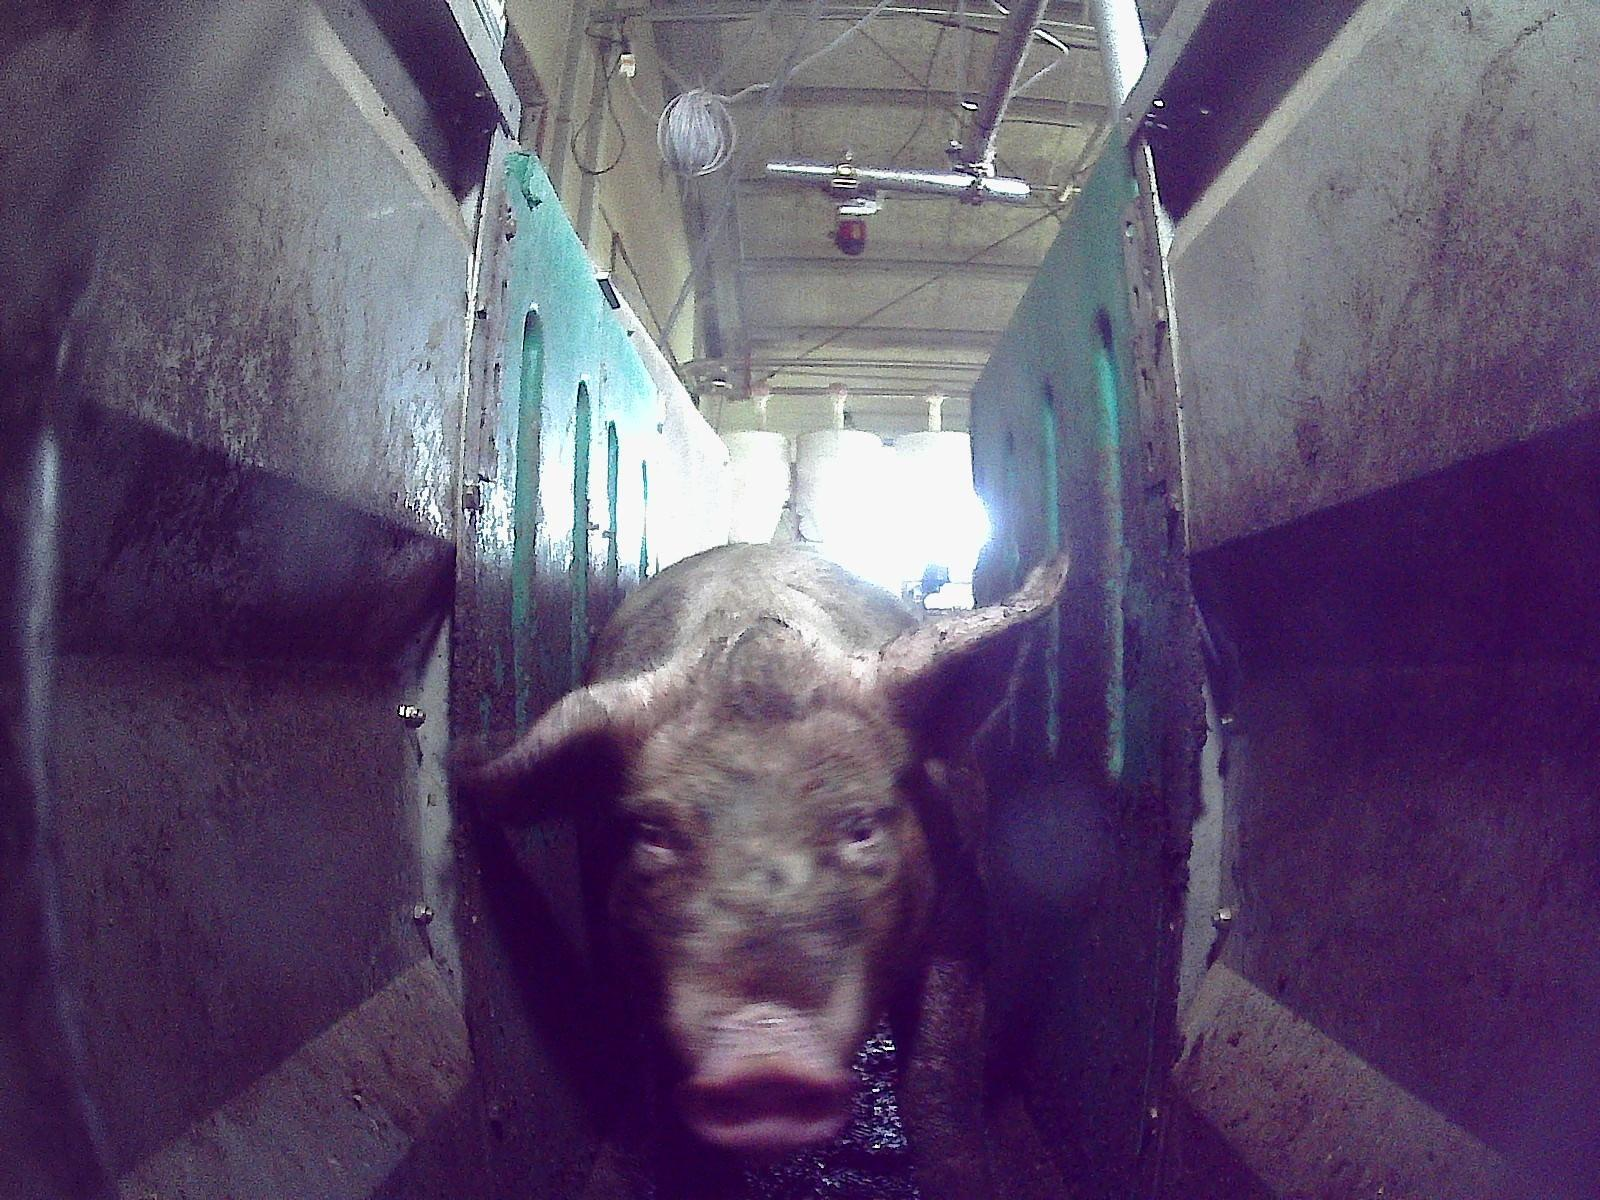Face: (613, 691, 917, 1154)
